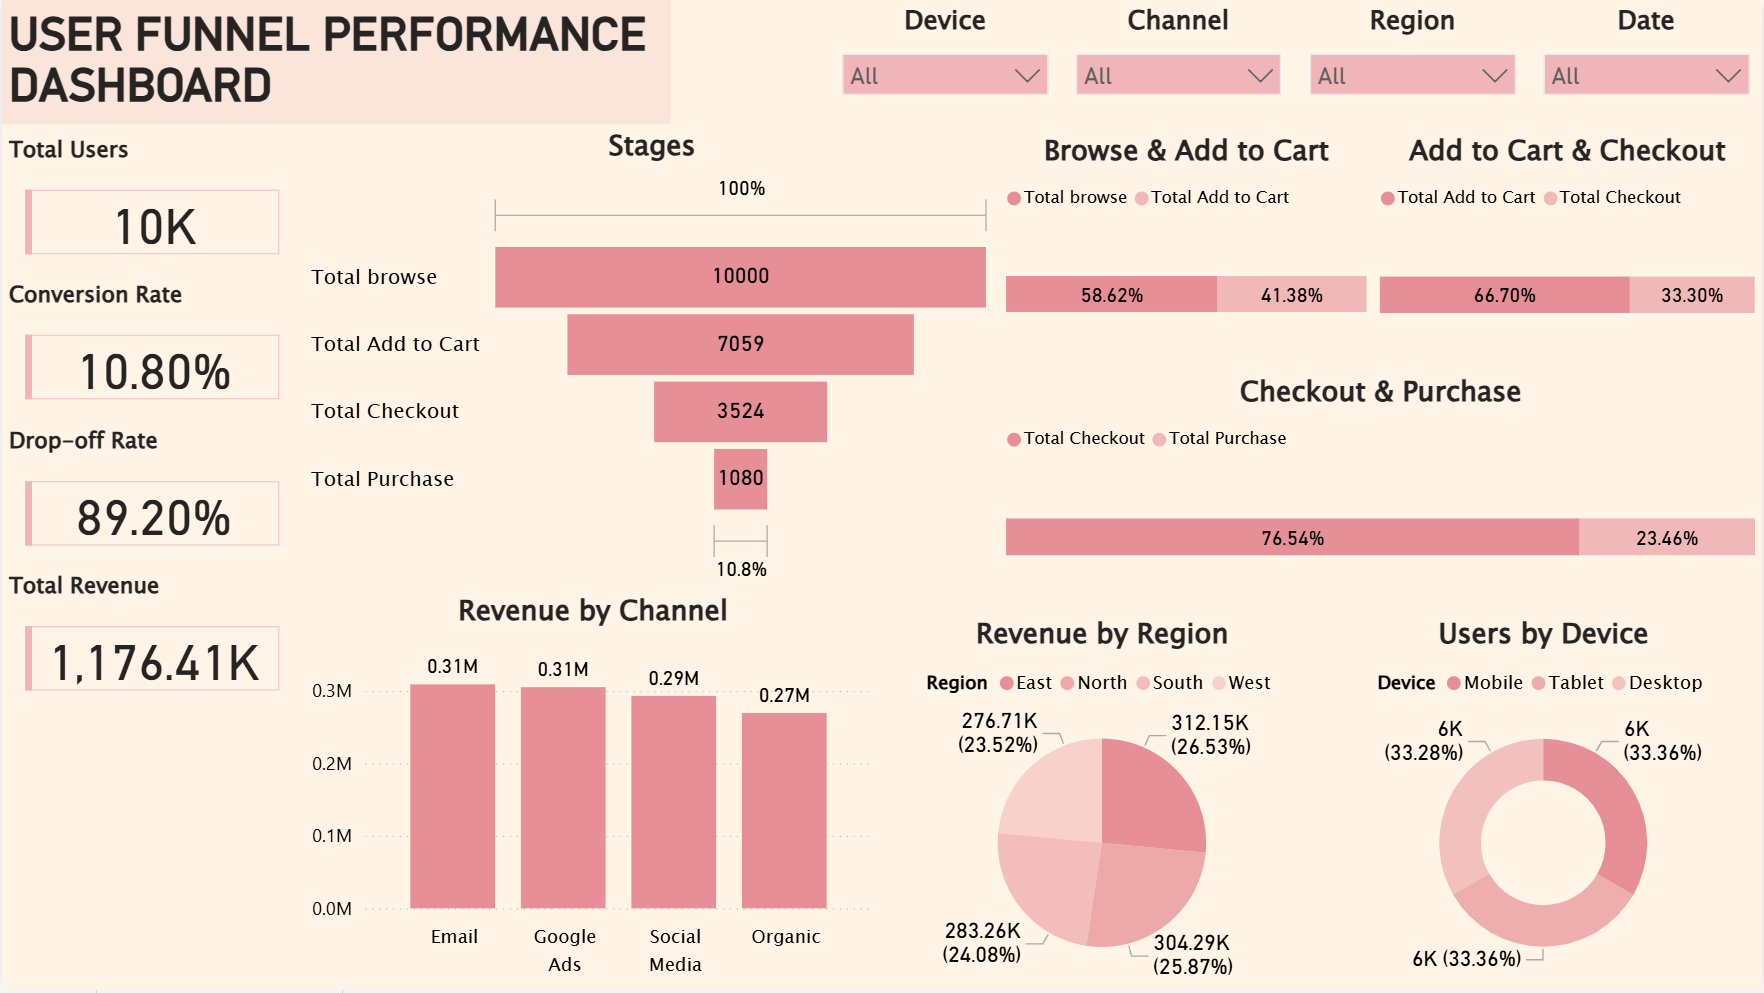

What the dashboard file says about the page in this screenshot:
{"tool":"powerbi","page":{"name":"Page 1","canvas":[1280,720],"ordinal":0},"visuals":[{"type":"textbox","box":[0,0,485.8,57.6],"z":0},{"type":"slicer","title":"Date","fields":{"Values":["funnel_dataset.Date.Variation.Date Hierarchy.Day"]},"box":[1110.5,0,169.8,90.7],"z":1000},{"type":"slicer","title":"Region","fields":{"Values":["funnel_dataset.Region"]},"box":[940.6,0,170,90.6],"z":2000},{"type":"slicer","title":"Device","fields":{"Values":["funnel_dataset.Device"]},"box":[601.2,0,170,90.6],"z":3000},{"type":"slicer","title":"Channel","fields":{"Values":["funnel_dataset.Channel"]},"box":[771.2,0,169.4,90.6],"z":4000},{"type":"cardVisual","title":"Total Users","fields":{"Data":["funnel_dataset.Total Count"]},"box":[0,58.1,219.8,105.8],"z":5000},{"type":"cardVisual","title":"Conversion Rate","fields":{"Data":["funnel_dataset.Conversion Rate"]},"box":[0,164,219.8,105.8],"z":6000},{"type":"cardVisual","title":"Drop-off Rate","fields":{"Data":["funnel_dataset.Drop-off rate"]},"box":[0,269.8,219.8,105.8],"z":7000},{"type":"cardVisual","title":"Total Revenue","fields":{"Data":["Sum(funnel_dataset.Revenue)"]},"box":[0,375.6,219.8,105.8],"z":8000},{"type":"funnel","title":"Stages","fields":{"Y":["funnel_dataset.Total browse","funnel_dataset.Total Add to Cart","funnel_dataset.Total checkout","funnel_dataset.Total Purchase"]},"box":[219.8,90.7,505.8,338.4],"z":9000},{"type":"hundredPercentStackedBarChart","title":"Browse & Add to Cart","fields":{"Y":["funnel_dataset.Total browse","funnel_dataset.Total Add to Cart"]},"box":[725.6,94.2,272.1,174.4],"z":10000},{"type":"hundredPercentStackedBarChart","title":"Checkout & Purchase","fields":{"Y":["funnel_dataset.Total checkout","funnel_dataset.Total Purchase"]},"box":[725.6,269.8,554.7,176.7],"z":11000},{"type":"hundredPercentStackedBarChart","title":"Add to Cart & Checkout","fields":{"Y":["funnel_dataset.Total Add to Cart","funnel_dataset.Total checkout"]},"box":[997.7,94.2,282.6,175.6],"z":12000},{"type":"columnChart","title":"Revenue by Channel","fields":{"Category":["funnel_dataset.Channel"],"Y":["Sum(funnel_dataset.Revenue)"]},"box":[219.8,429.1,419.8,290.7],"z":13000},{"type":"pieChart","title":"Revenue by Region","fields":{"Y":["Sum(funnel_dataset.Revenue)"],"Category":["funnel_dataset.Region"]},"box":[639.5,446.5,322.1,273.3],"z":13001},{"type":"donutChart","title":"Users by Device","fields":{"Category":["funnel_dataset.Device"],"Y":["funnel_dataset.Total Count"]},"box":[961.6,446.5,318.6,273.3],"z":13002}]}

Visuals, with their boxes in screenshot pixels (x1, y1, x2, y2), scaled from the page's 1280x720 canvas onto the 1764x993 screenshot:
textbox: 0:0:669:79
"Date" slicer: 1530:0:1763:125
"Region" slicer: 1296:0:1531:125
"Device" slicer: 829:0:1063:125
"Channel" slicer: 1063:0:1296:125
"Total Users" cardVisual: 0:80:303:226
"Conversion Rate" cardVisual: 0:226:303:372
"Drop-off Rate" cardVisual: 0:372:303:518
"Total Revenue" cardVisual: 0:518:303:664
"Stages" funnel: 303:125:1000:592
"Browse & Add to Cart" hundredPercentStackedBarChart: 1000:130:1375:370
"Checkout & Purchase" hundredPercentStackedBarChart: 1000:372:1763:616
"Add to Cart & Checkout" hundredPercentStackedBarChart: 1375:130:1763:372
"Revenue by Channel" columnChart: 303:592:881:992
"Revenue by Region" pieChart: 881:616:1325:992
"Users by Device" donutChart: 1325:616:1763:992
